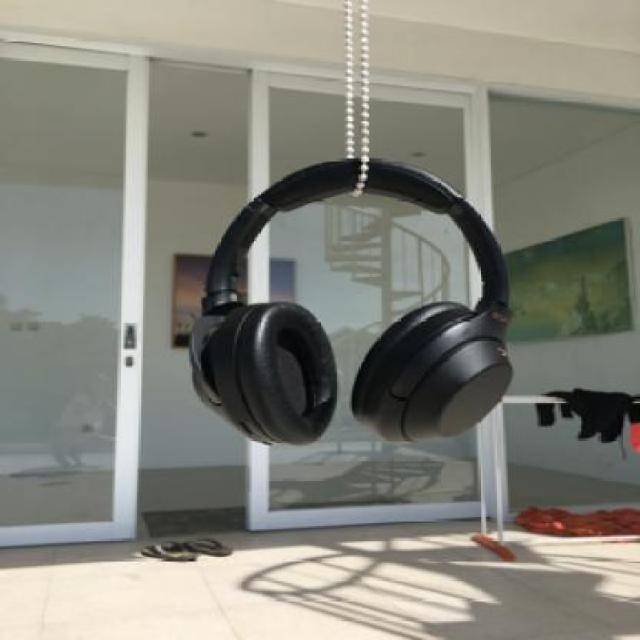earphone: (177, 155, 523, 510)
